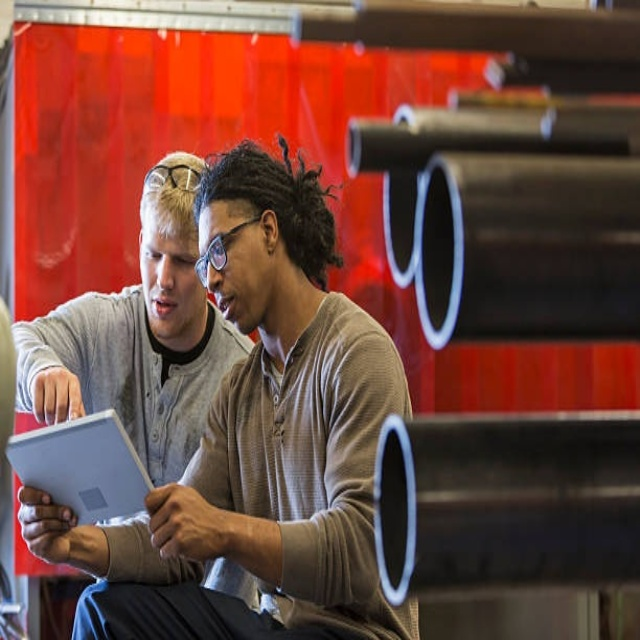Gafas: (195, 213, 267, 287)
Sin_gafas: (142, 234, 189, 276)
Sin_guantes: (140, 477, 222, 573), (15, 483, 80, 565)
Sin_mascara: (210, 292, 245, 326), (147, 290, 176, 326)
